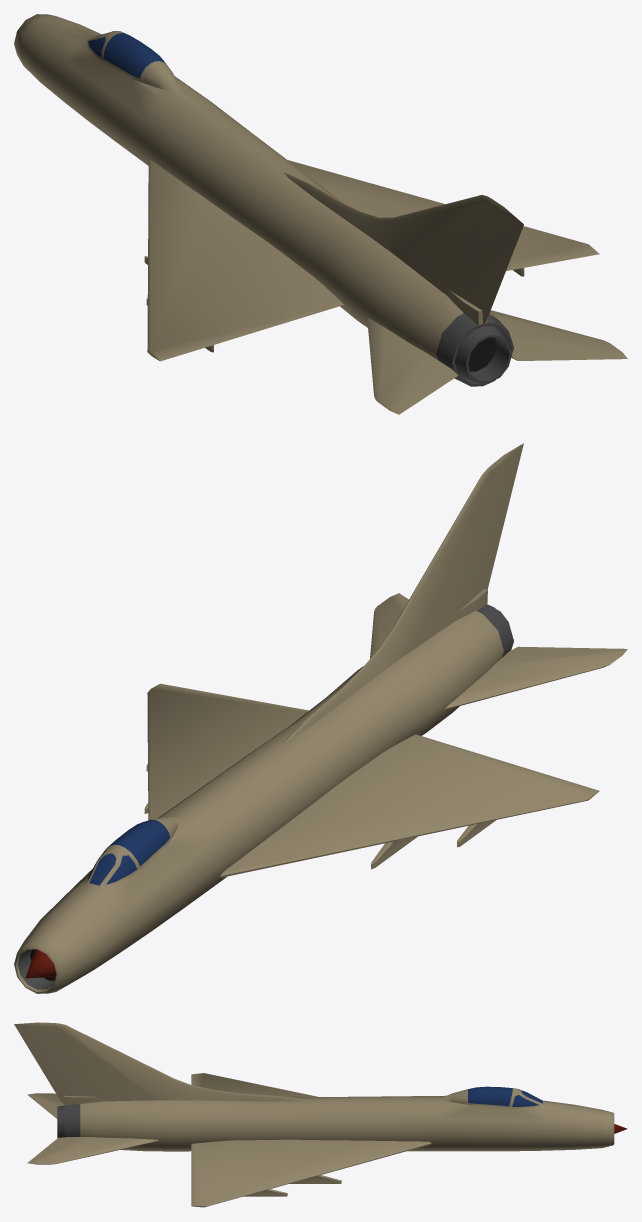
The picture shows the model from 3 angles, top to bottom: view 1: azimuth 30°, elevation 25°; view 2: azimuth 150°, elevation 25°; view 3: azimuth 270°, elevation 25°; orthographic projection. The views are drawn at different scales.
Visible parts, largest first — view 1: su9; view 2: su9; view 3: su9.
Boxes of the visible parts, x1=… form: su9: x1=14, y1=14, x2=627, y2=414; su9: x1=14, y1=443, x2=627, y2=993; su9: x1=14, y1=1022, x2=627, y2=1207.
Size of the model in its own units: 8.4 by 3.89 by 16.5.
